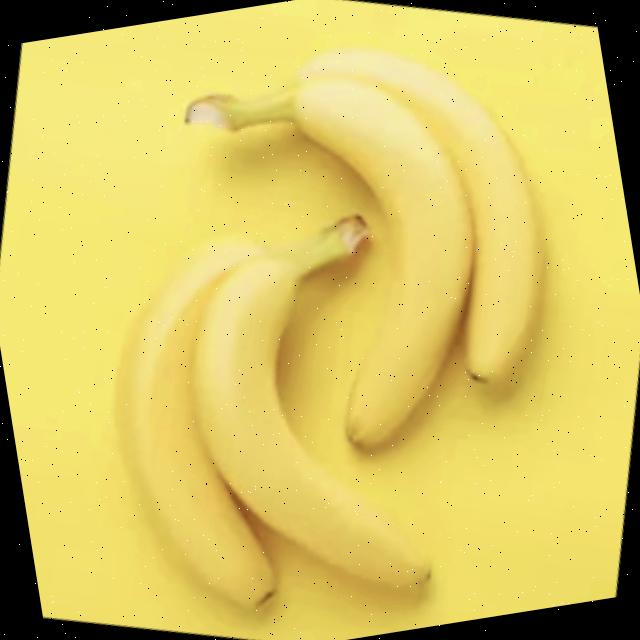banana: (196, 0, 597, 488), (62, 161, 443, 640)
